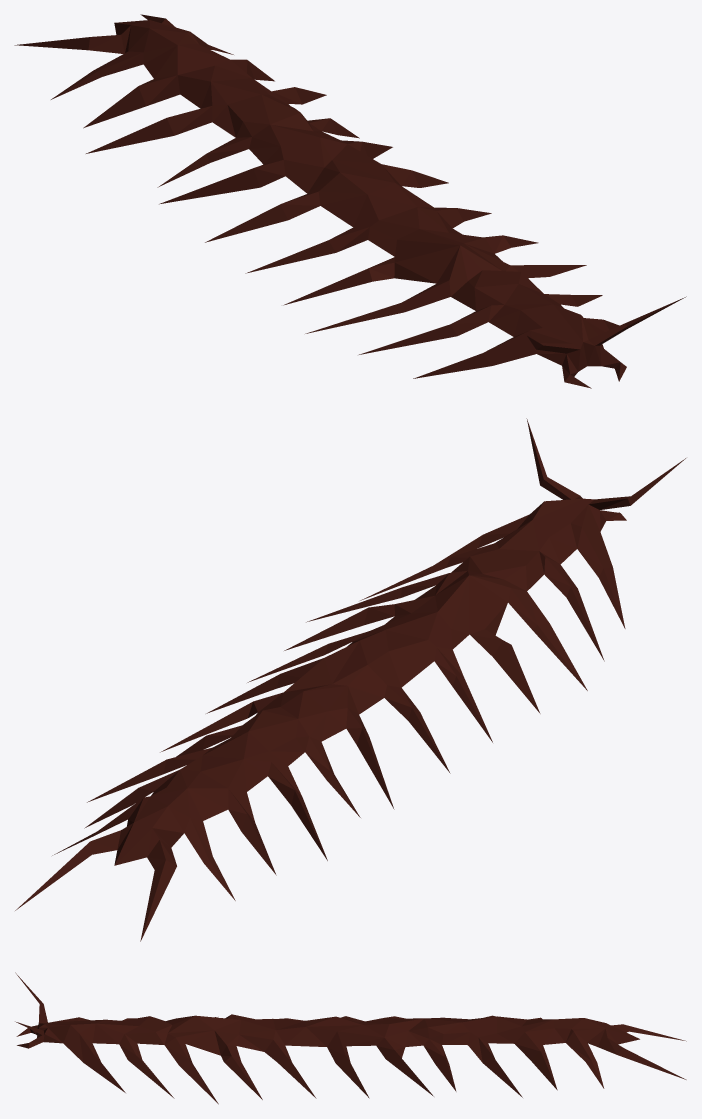
Rendered from centipede_colorMap.obj.
3 views of the same model, one above another, from view 1: azimuth 30°, elevation 25°; view 2: azimuth 150°, elevation 25°; view 3: azimuth 270°, elevation 25° (orthographic). The views are drawn at different scales.
Size of the model in its own units: 290 by 99.68 by 938.
